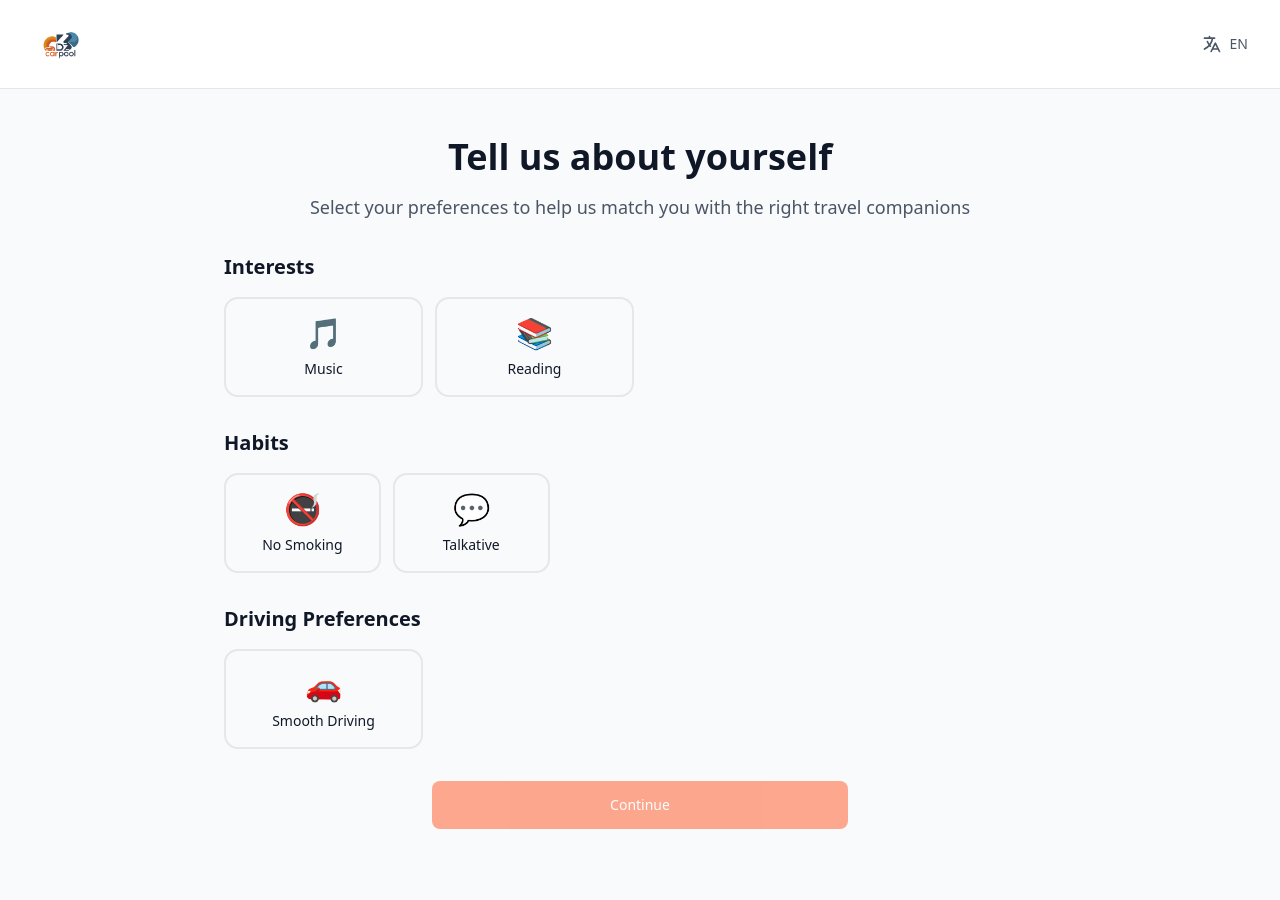
PreferencesPage › disables submit button while saving
Expected: the text "Music" is shown, 304,359 -> 343,378
Click the button "🎵 Music" at (324, 347), box 224,297 -> 423,397
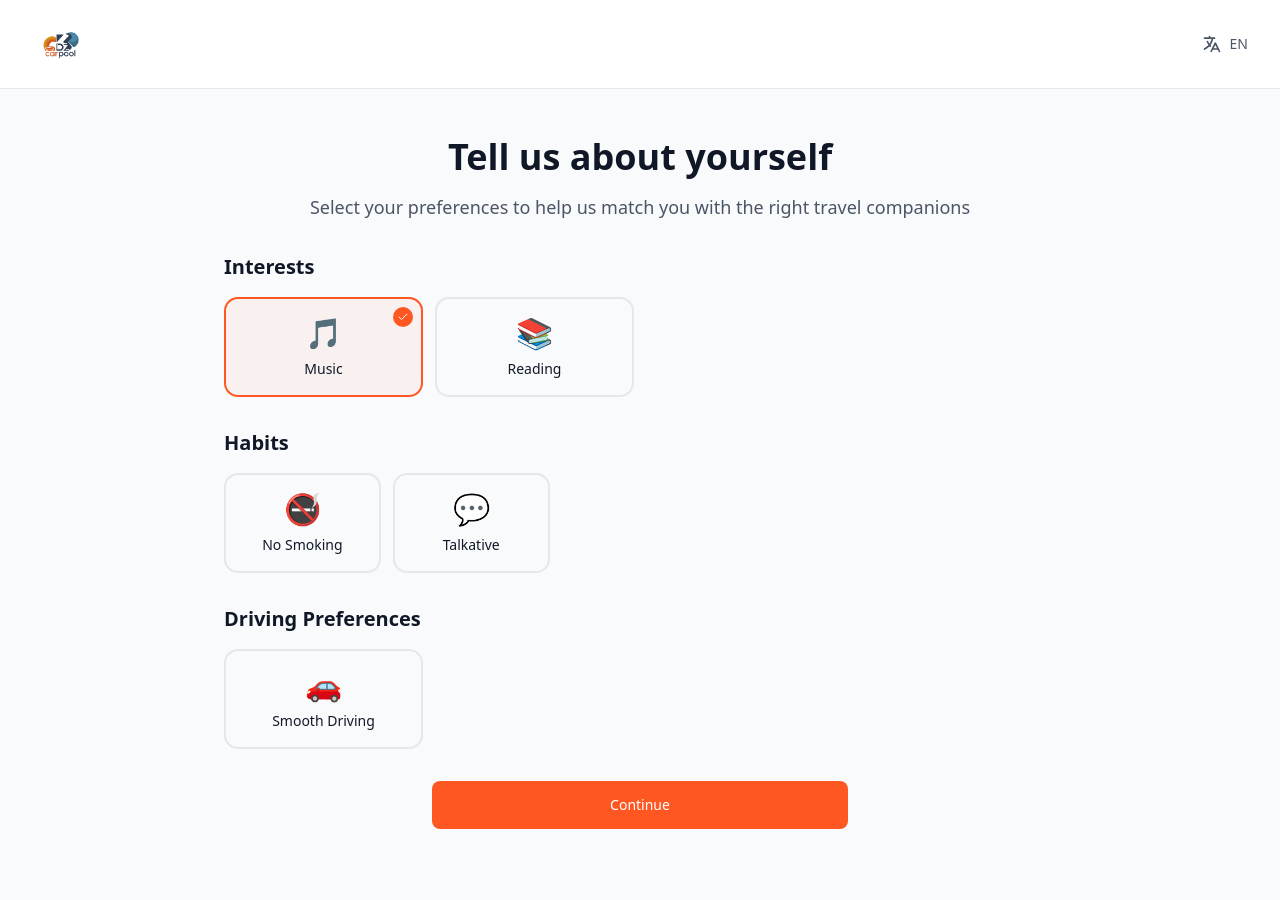
Click the button "Continue" at (640, 805), box 432,781 -> 848,829
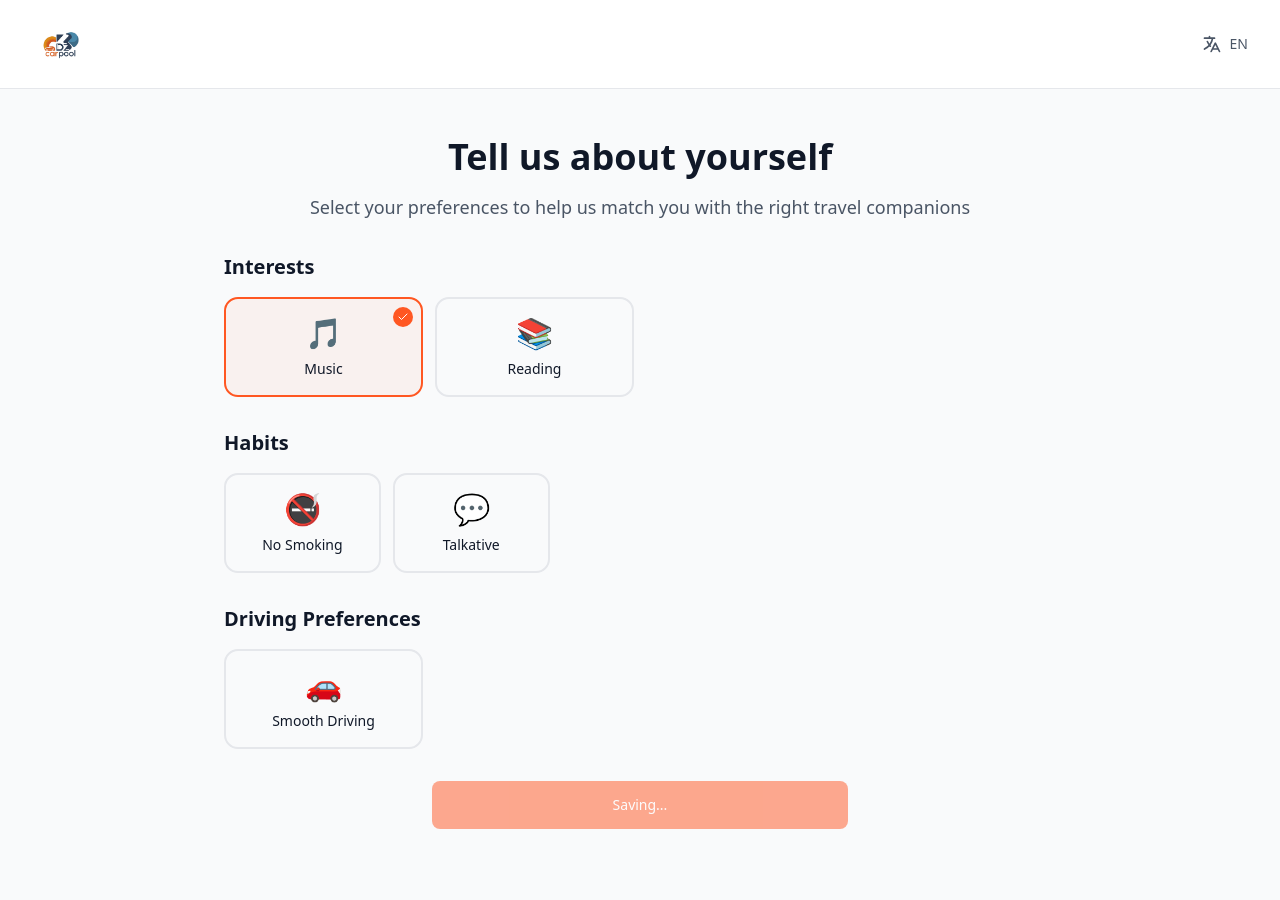
Expected: the button "Continue" is disabled, 432,781 -> 848,829
